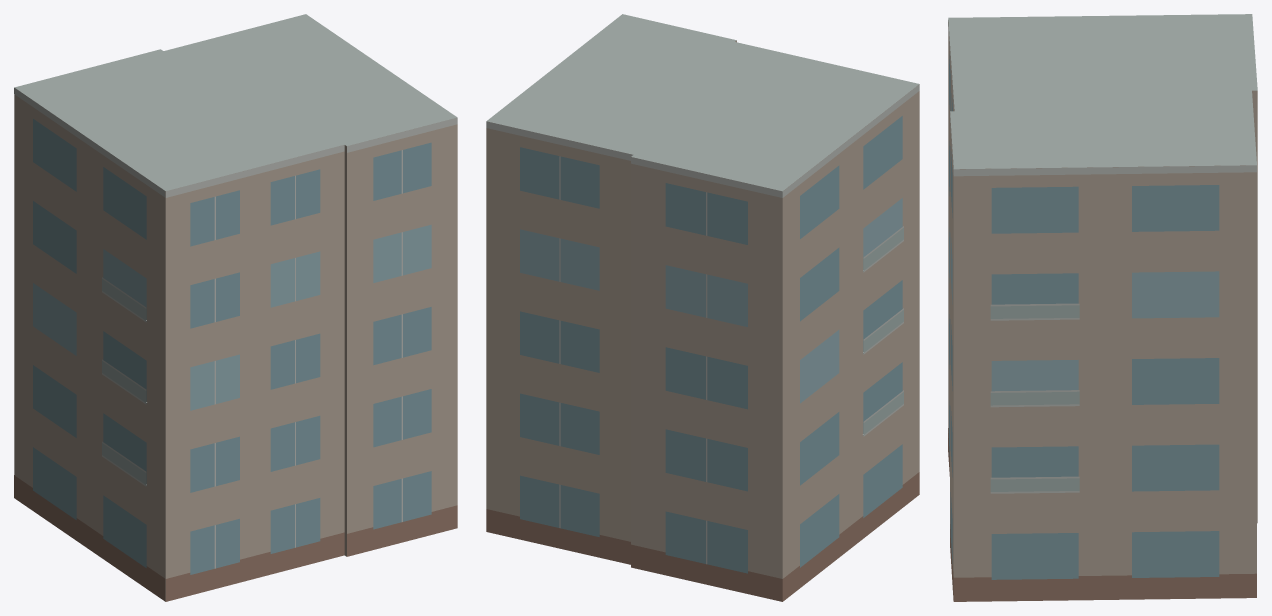
The model's file is survey-upis-32960263.glb.
3 views of the same model, side by side, from view 1: azimuth 30°, elevation 25°; view 2: azimuth 150°, elevation 25°; view 3: azimuth 270°, elevation 25° (orthographic). The views are drawn at different scales.
Parts seen in each view (by area): view 1: survey-upis-32960263.tmp; view 2: survey-upis-32960263.tmp; view 3: survey-upis-32960263.tmp.
Boxes of the visible parts, x1,y1,x2,y2 form: survey-upis-32960263.tmp: [14, 14, 457, 601]; survey-upis-32960263.tmp: [486, 14, 919, 601]; survey-upis-32960263.tmp: [948, 14, 1257, 601].
Size of the model in its own units: 11.47 by 14.9 by 9.67.
